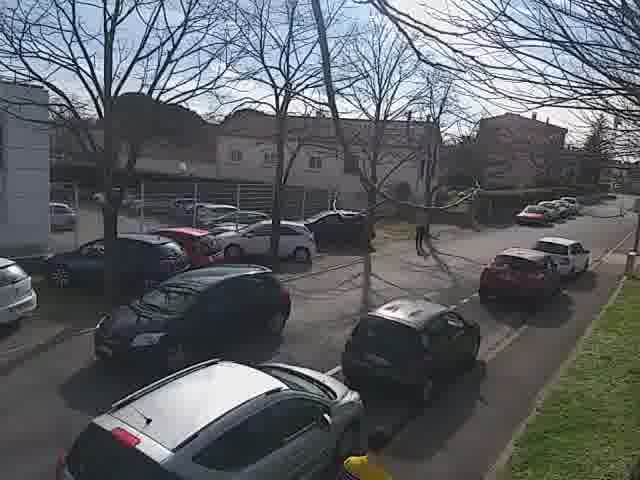persona: (409, 198, 429, 249)
